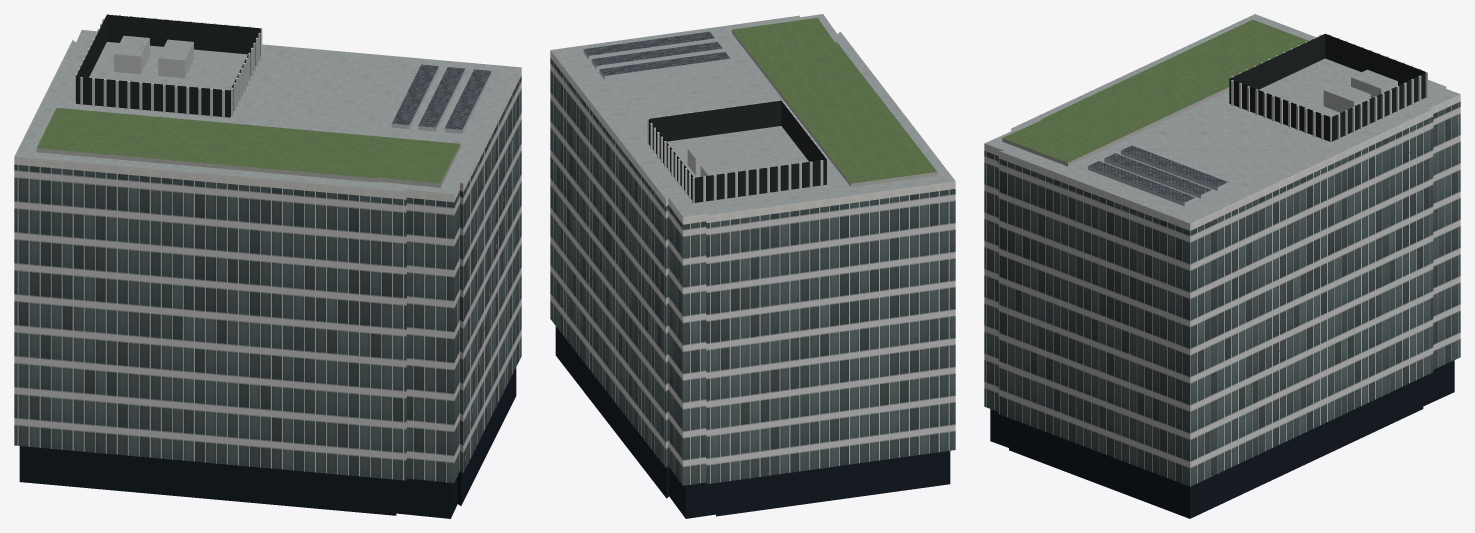
Rendered from 892b8321-d85d-5bdd-acf4-47fcd984f67d.glb.
3 views of the same model, side by side, from view 1: azimuth 30°, elevation 25°; view 2: azimuth 150°, elevation 25°; view 3: azimuth 270°, elevation 25° (orthographic). The views are drawn at different scales.
Visible parts, largest first — view 1: 892b8321-d85d-5bdd-acf4-47fcd984f67d; view 2: 892b8321-d85d-5bdd-acf4-47fcd984f67d; view 3: 892b8321-d85d-5bdd-acf4-47fcd984f67d.
Boxes of the visible parts, x1,y1,x2,y2 form: 892b8321-d85d-5bdd-acf4-47fcd984f67d: (14, 14, 521, 518); 892b8321-d85d-5bdd-acf4-47fcd984f67d: (550, 14, 955, 518); 892b8321-d85d-5bdd-acf4-47fcd984f67d: (984, 14, 1460, 518).
Size of the model in its own units: 72.56 by 52.08 by 69.69.
Materials: 9 (6 with a texture image).
